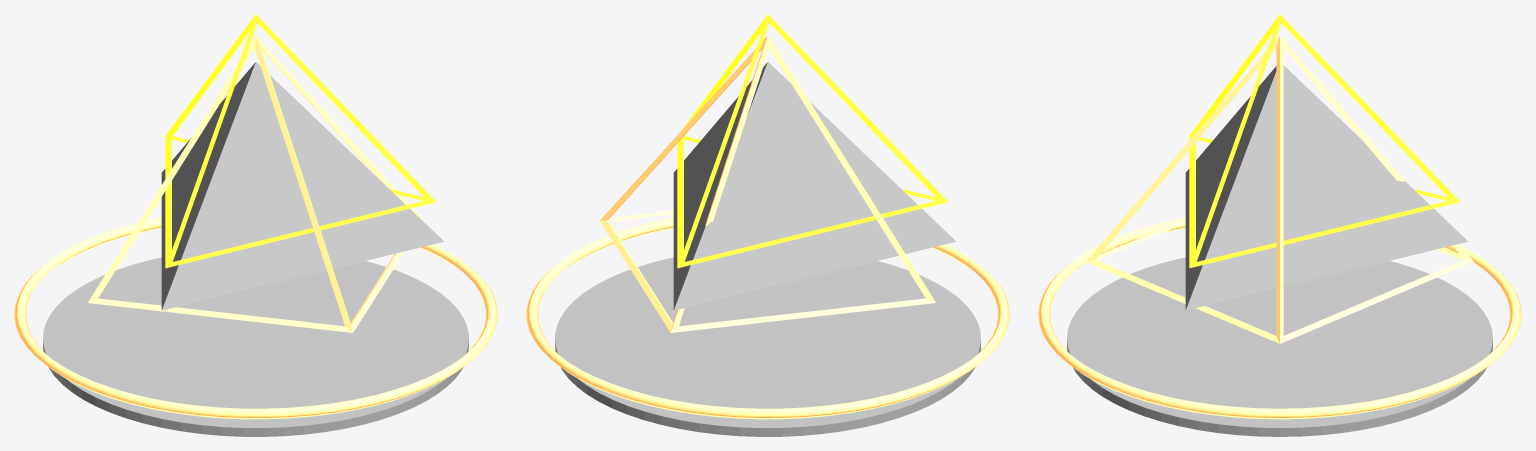
The model's file is NEAT_3D_rotating.glb.
3 views of the same model, side by side, from view 1: azimuth 30°, elevation 25°; view 2: azimuth 150°, elevation 25°; view 3: azimuth 270°, elevation 25° (orthographic).
Parts seen in each view (by area): view 1: Cone.004; view 2: Cone.004; view 3: Cone.004.
Part boxes in pixels (box(x1,y1,x2,y2)): Cone.004: box(14, 14, 497, 436); Cone.004: box(526, 14, 1009, 436); Cone.004: box(1038, 14, 1521, 436).
Size of the model in its own units: 2.27 by 1.72 by 2.27.
